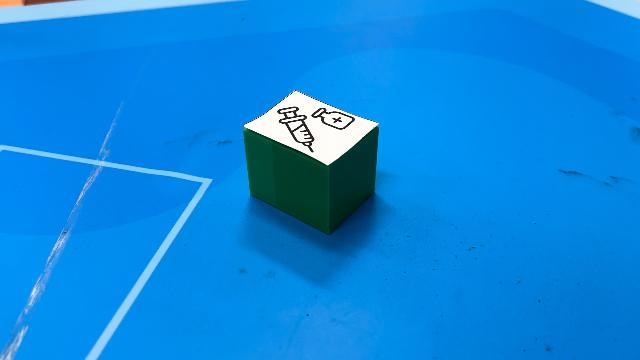syringe: (244, 89, 380, 235)
